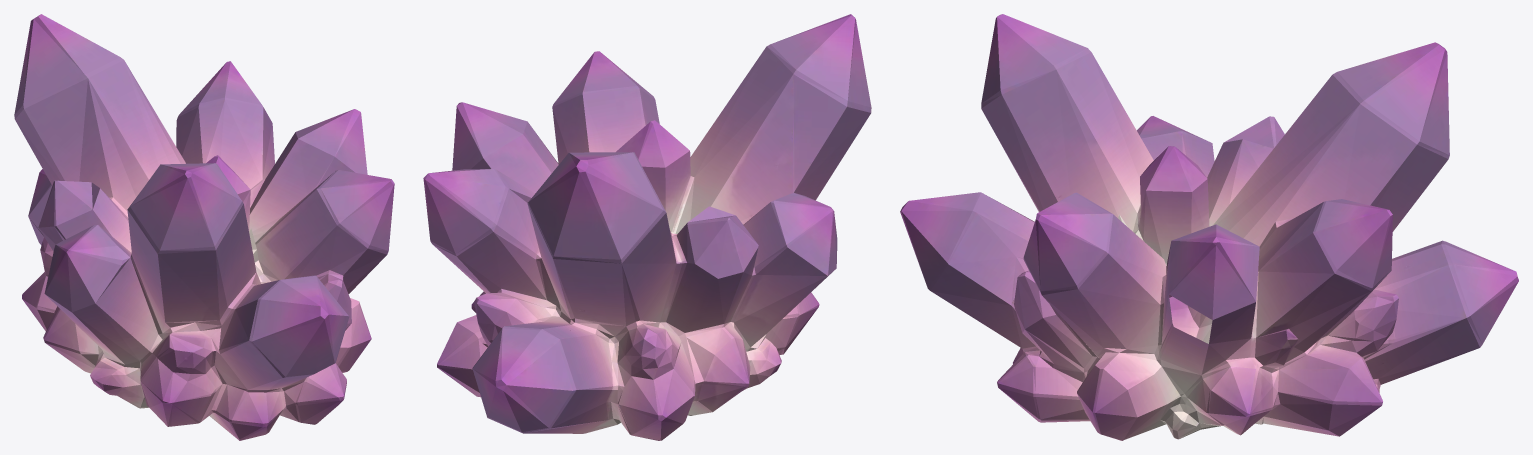
The model's file is crystal_formation_LOD0.glb.
The picture shows the model from 3 angles, left to right: view 1: azimuth 30°, elevation 25°; view 2: azimuth 150°, elevation 25°; view 3: azimuth 270°, elevation 25°; orthographic projection. The views are drawn at different scales.
Parts seen in each view (by area): view 1: crystal_formation_LOD0; view 2: crystal_formation_LOD0; view 3: crystal_formation_LOD0.
Part boxes in pixels (x1,y1,x2,y2): crystal_formation_LOD0: [14, 14, 394, 440]; crystal_formation_LOD0: [423, 14, 871, 440]; crystal_formation_LOD0: [900, 14, 1518, 440].
Size of the model in its own units: 0.6751 by 0.589 by 1.
Materials: 1 (1 with a texture image).
